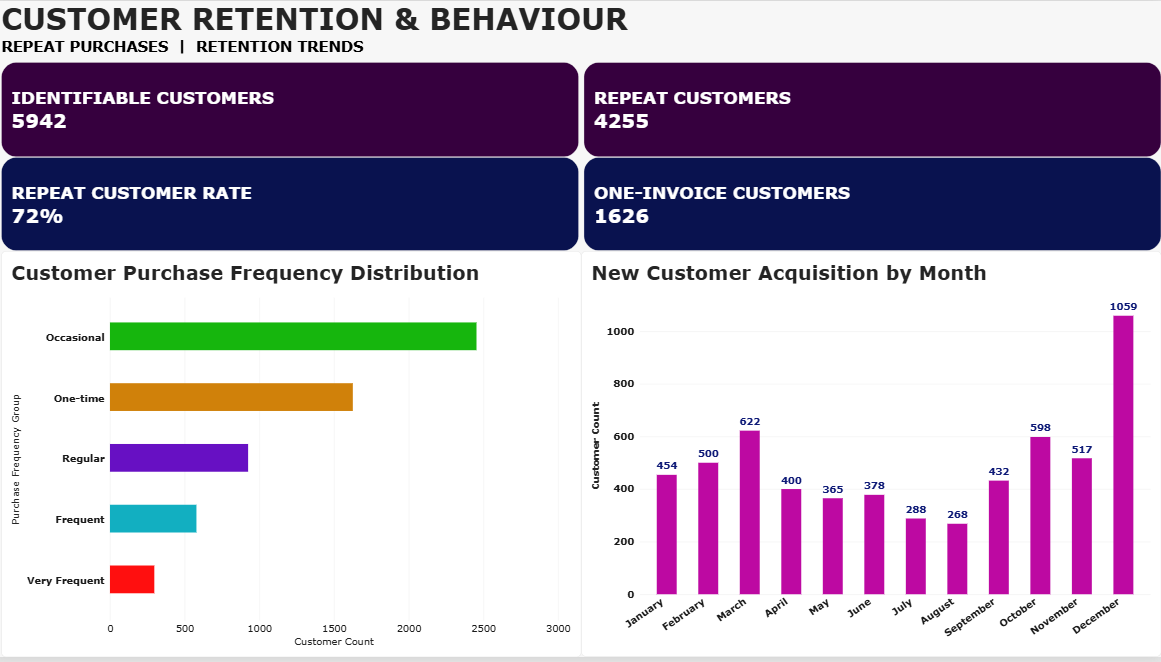

The dashboard page shown, as its layout file describes it:
{"tool":"powerbi","page":{"name":"Customer Retention","canvas":[1920,1080],"ordinal":3},"visuals":[{"type":"textbox","title":"CUSTOMER RETENTION & BEHAVIOUR","box":[10.3,0,1910.1,86.4],"z":0},{"type":"cardVisual","fields":{"Data":["online_retail_full.Identifiable Customers","online_retail_full.Repeat Customers"]},"box":[10.3,100.9,1910.1,156.4],"z":1000},{"type":"cardVisual","fields":{"Data":["online_retail_full.Repeat Customer Rate","online_retail_full.One-Invoice Customers"]},"box":[10.3,257.3,1910.1,154.4],"z":2000},{"type":"clusteredBarChart","title":"Customer Purchase Frequency Distribution","fields":{"Category":["Customer Summary.Purchase Frequency Group"],"Y":["Customer Summary.Customer Count"]},"box":[10.3,411.7,955.1,669],"z":3000},{"type":"clusteredColumnChart","title":"New Customer Acquisition by Month","fields":{"Category":["Customer Summary.First Purchase Month.Variation.Date Hierarchy.Month"],"Y":["Customer Summary.Customer Count"]},"box":[965,412,955,668],"z":4000}]}

Visuals, with their boxes in screenshot pixels (x1, y1, x2, y2), scaled from the page's 1920x1080 canvas onto the 1161x662 screenshot:
"CUSTOMER RETENTION & BEHAVIOUR" textbox: detection(6, 0, 1160, 53)
cardVisual - online_retail_full.Identifiable Customers x online_retail_full.Repeat Customers: detection(6, 62, 1160, 158)
cardVisual - online_retail_full.Repeat Customer Rate x online_retail_full.One-Invoice Customers: detection(6, 158, 1160, 252)
"Customer Purchase Frequency Distribution" clusteredBarChart: detection(6, 252, 584, 661)
"New Customer Acquisition by Month" clusteredColumnChart: detection(584, 253, 1160, 661)
